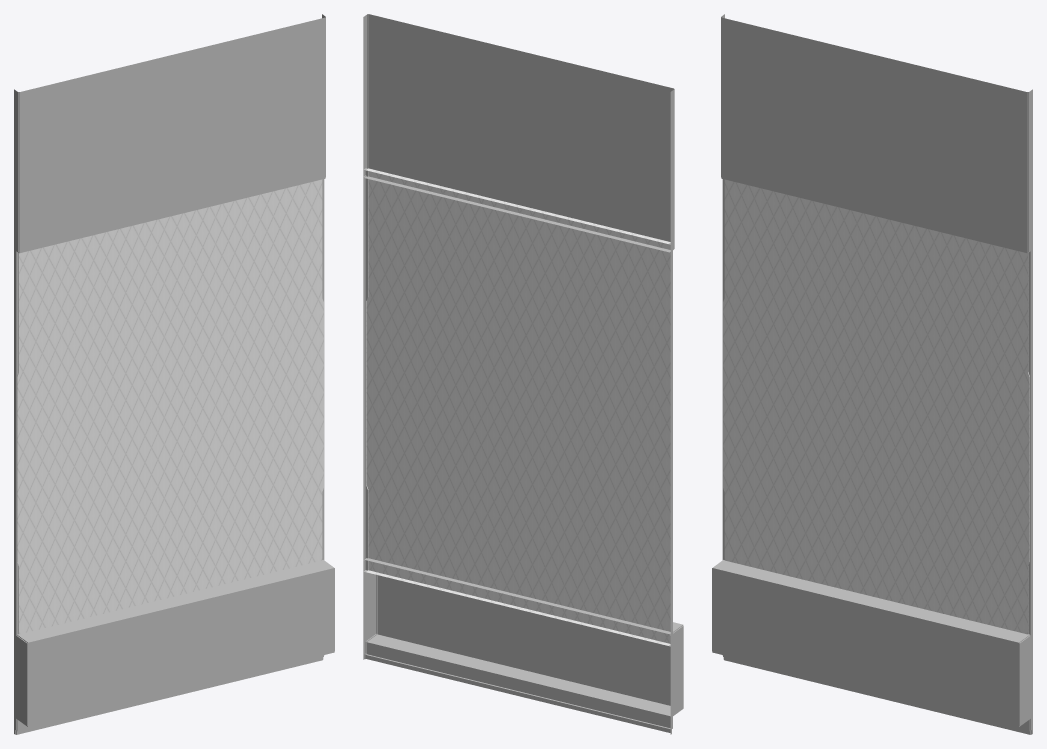
3 renders of one model, left to right at view 1: azimuth 30°, elevation 25°; view 2: azimuth 150°, elevation 25°; view 3: azimuth 330°, elevation 25°, orthographic.
Visible parts, largest first — view 1: M_W_102_b_4x8; view 2: M_W_102_b_4x8; view 3: M_W_102_b_4x8.
Boxes of the visible parts, box(x1,y1,x2,y2) form: M_W_102_b_4x8: box(14, 14, 334, 734); M_W_102_b_4x8: box(363, 14, 683, 734); M_W_102_b_4x8: box(712, 14, 1032, 734).
Bounding box in the file's own units: 4 × 8 × 0.3002.
